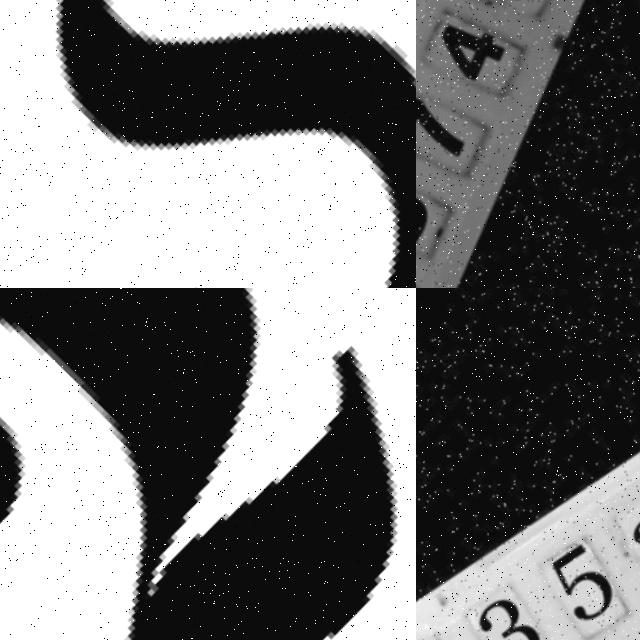2: (0, 288, 416, 640), (589, 469, 640, 594)
3: (445, 566, 576, 640)
4: (416, 0, 544, 121)
5: (516, 516, 640, 640), (416, 136, 473, 285)
7: (416, 56, 508, 199)
8: (431, 0, 578, 39)
S: (0, 0, 416, 288)
